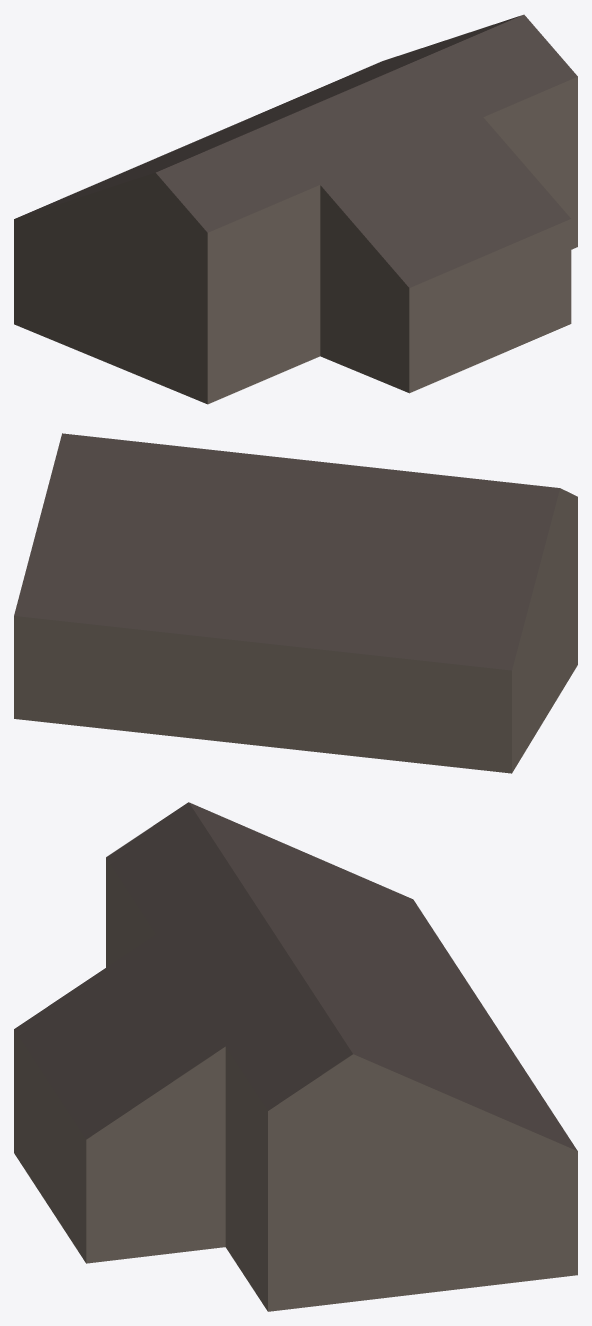
3 views of the same model, one above another, from view 1: azimuth 30°, elevation 25°; view 2: azimuth 150°, elevation 25°; view 3: azimuth 270°, elevation 25° (orthographic). The views are drawn at different scales.
Visible parts, largest first — view 1: HP-w428179921; view 2: HP-w428179921; view 3: HP-w428179921.
Boxes of the visible parts, x1,y1,x2,y2 form: HP-w428179921: (14,14,577,404); HP-w428179921: (14,433,577,773); HP-w428179921: (14,802,577,1311).
Bounding box in the file's own units: 15 × 6 × 12.38.
